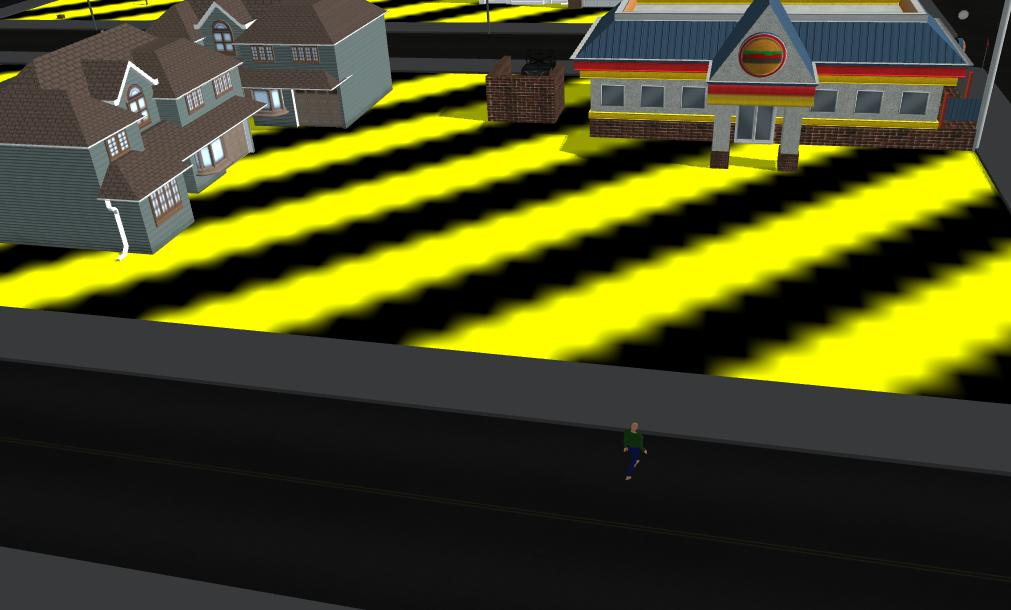human: (623, 417, 655, 470)
